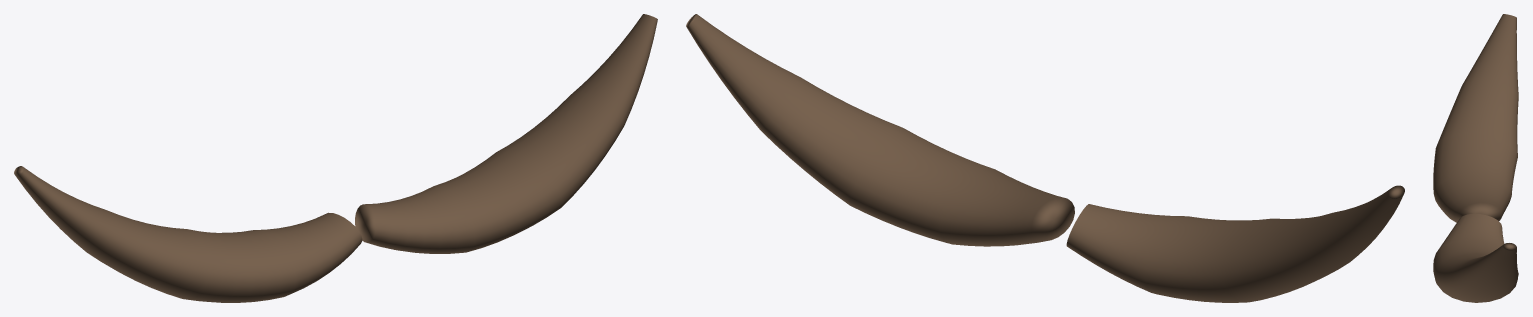
File: mustache.glb
3 renders of one model, left to right at view 1: azimuth 30°, elevation 25°; view 2: azimuth 150°, elevation 25°; view 3: azimuth 270°, elevation 25°, orthographic. The views are drawn at different scales.
Bounding box in the file's own units: 0.1135 × 0.0273 × 0.0175.
